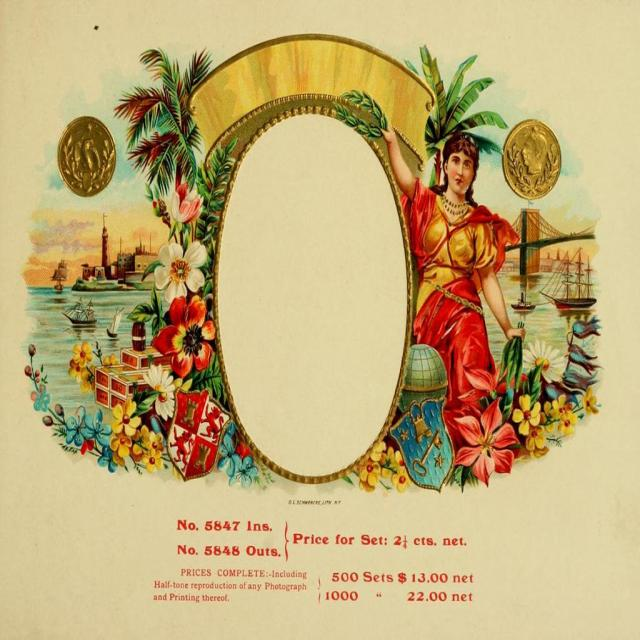Coin: (57, 112, 115, 199), (499, 116, 561, 197)
